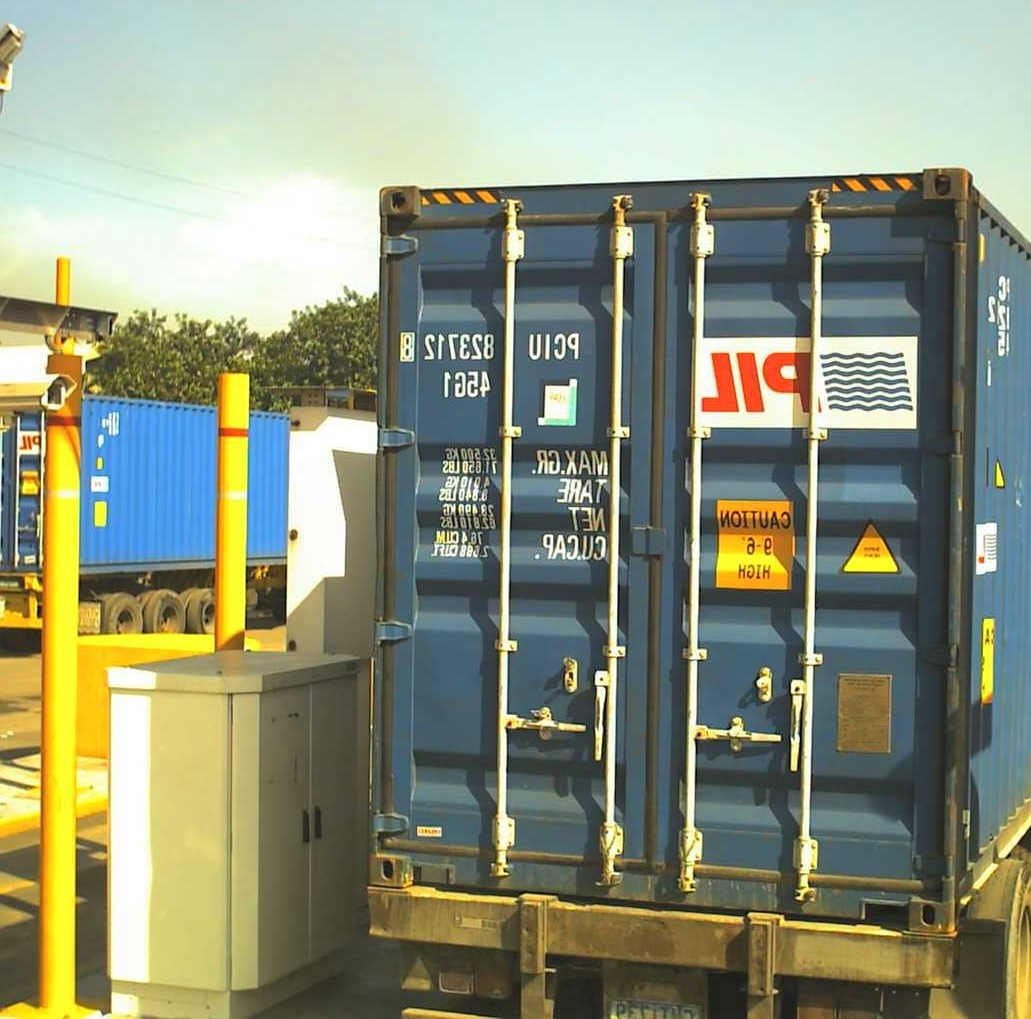container_door: (374, 180, 961, 942)
